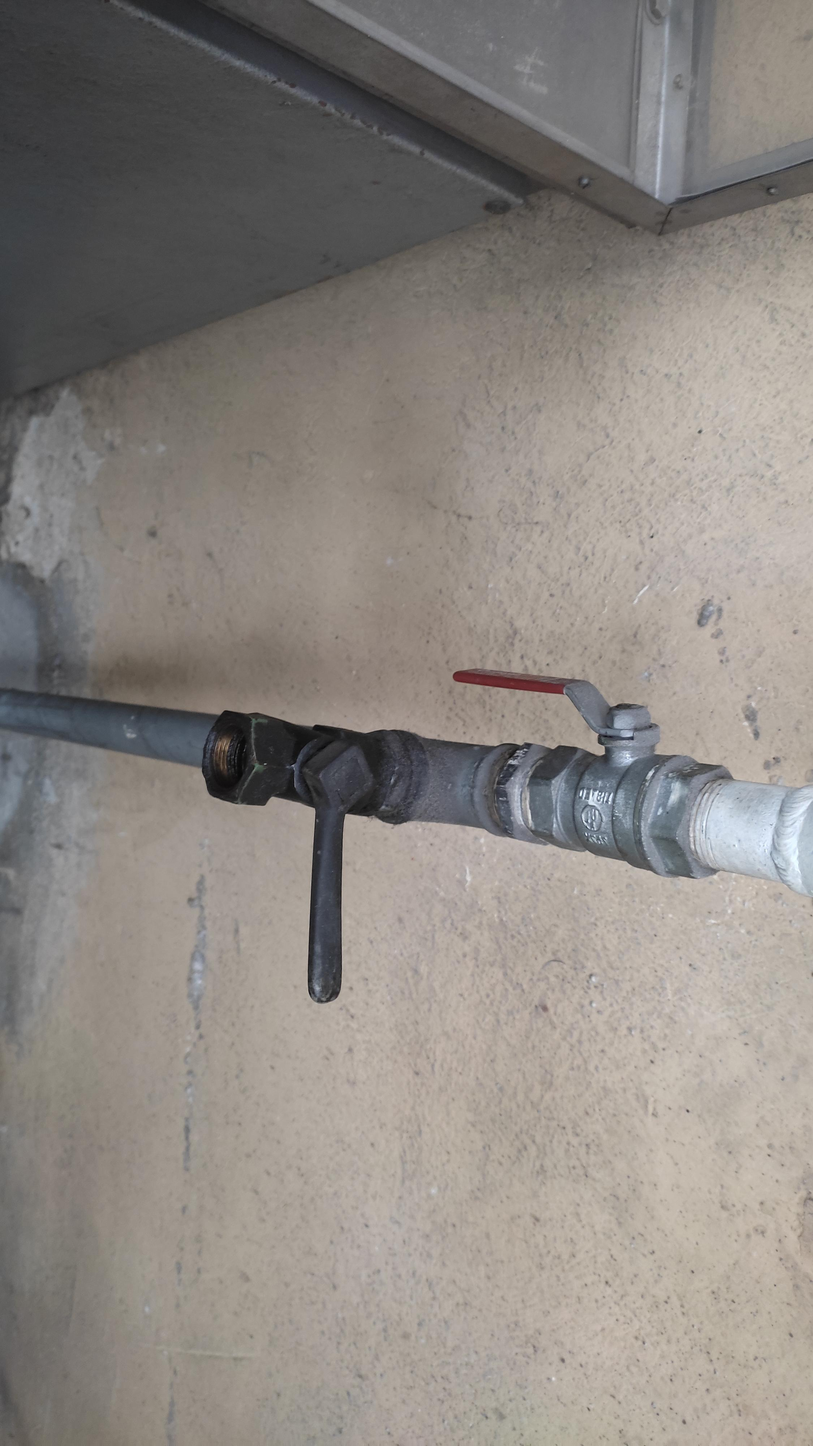closed valve: (256, 700, 434, 1006)
opened valve: (441, 659, 730, 882)
